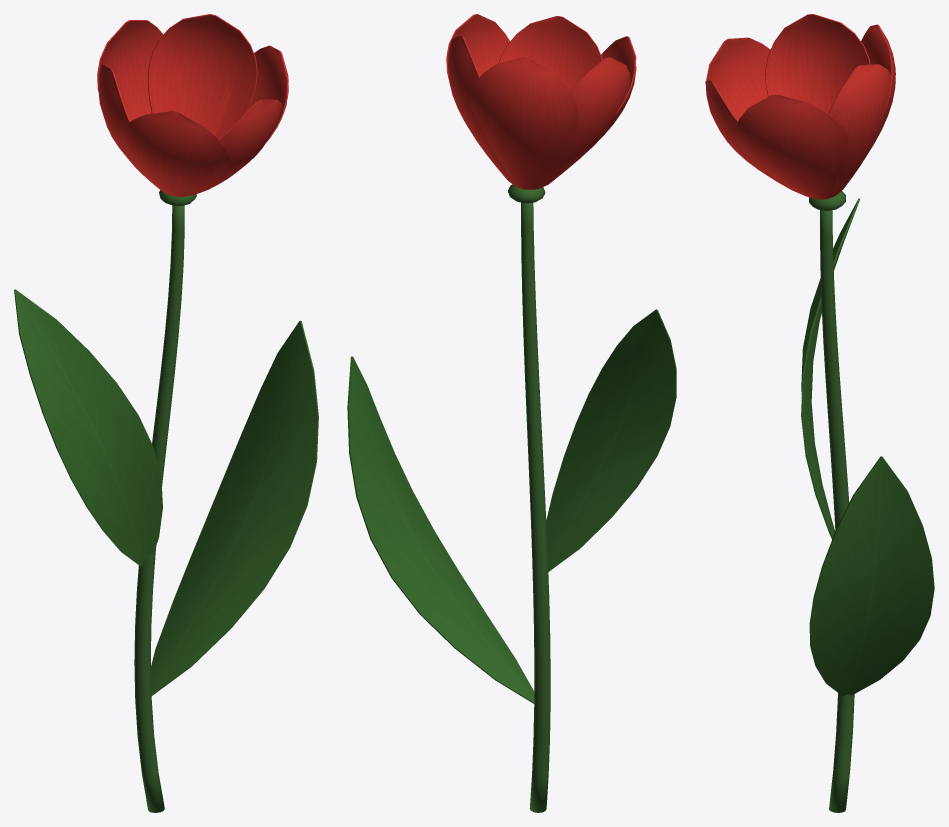
The model's file is tulipano.glb.
The picture shows the model from 3 angles, left to right: view 1: azimuth 30°, elevation 25°; view 2: azimuth 150°, elevation 25°; view 3: azimuth 270°, elevation 25°; orthographic projection.
Parts seen in each view (by area): view 1: Tulip clasping leaf 1, Tulip clasping leaf 2, Tulip Tulip inner tepal 2, Cut stem, Tulip Tulip outer tepal 5, Tulip Tulip outer tepal 3, Tulip Tulip inner tepal 6, Tulip Tulip outer tepal 1, Tulip Tulip inner tepal 4; view 2: Tulip clasping leaf 2, Tulip clasping leaf 1, Cut stem, Tulip Tulip outer tepal 3, Tulip Tulip inner tepal 4, Tulip Tulip inner tepal 6, Tulip Tulip inner tepal 2, Tulip Tulip outer tepal 1, Tulip Tulip outer tepal 5; view 3: Tulip clasping leaf 1, Tulip Tulip outer tepal 1, Tulip Tulip inner tepal 4, Cut stem, Tulip Tulip inner tepal 2, Tulip Tulip outer tepal 5, Tulip clasping leaf 2, Tulip Tulip inner tepal 6, Tulip Tulip outer tepal 3, Tulip Fleshy attached receptacle.
Part boxes in pixels (box(x1,y1,x2,y2)): Tulip clasping leaf 1: box(151, 320, 318, 695); Tulip clasping leaf 2: box(14, 289, 162, 567); Tulip Tulip inner tepal 2: box(147, 14, 257, 139); Cut stem: box(134, 205, 184, 812); Tulip Tulip outer tepal 5: box(119, 110, 229, 196); Tulip Tulip outer tepal 3: box(97, 20, 181, 121); Tulip Tulip inner tepal 6: box(188, 99, 282, 195); Tulip Tulip outer tepal 1: box(208, 45, 288, 141); Tulip Tulip inner tepal 4: box(98, 64, 162, 191); Tulip clasping leaf 2: box(546, 309, 676, 572); Tulip clasping leaf 1: box(347, 356, 534, 703); Cut stem: box(521, 202, 550, 812); Tulip Tulip outer tepal 3: box(470, 57, 579, 189); Tulip Tulip inner tepal 4: box(532, 57, 630, 189); Tulip Tulip inner tepal 6: box(499, 16, 602, 90); Tulip Tulip inner tepal 2: box(447, 35, 517, 187); Tulip Tulip outer tepal 1: box(446, 14, 510, 80); Tulip Tulip outer tepal 5: box(573, 36, 636, 164); Tulip clasping leaf 1: box(809, 456, 934, 695); Tulip Tulip outer tepal 1: box(735, 94, 848, 199); Tulip Tulip inner tepal 4: box(765, 14, 870, 113); Cut stem: box(820, 210, 854, 812); Tulip Tulip inner tepal 2: box(828, 64, 891, 198); Tulip Tulip outer tepal 5: box(706, 37, 804, 120); Tulip clasping leaf 2: box(801, 198, 860, 539); Tulip Tulip inner tepal 6: box(705, 79, 806, 196); Tulip Tulip outer tepal 3: box(861, 24, 895, 157); Tulip Fleshy attached receptacle: box(809, 191, 845, 210).
Size of the model in its own units: 0.1274 by 0.3126 by 0.0832.
5 materials, 5 textured.
